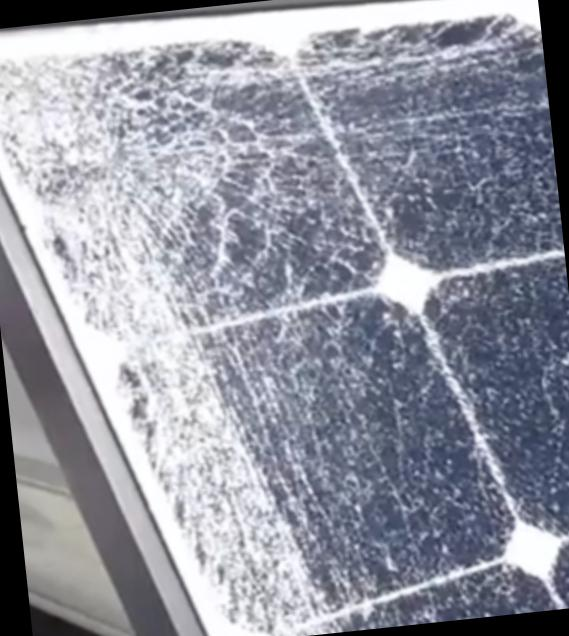Crack: (0, 20, 340, 350)
